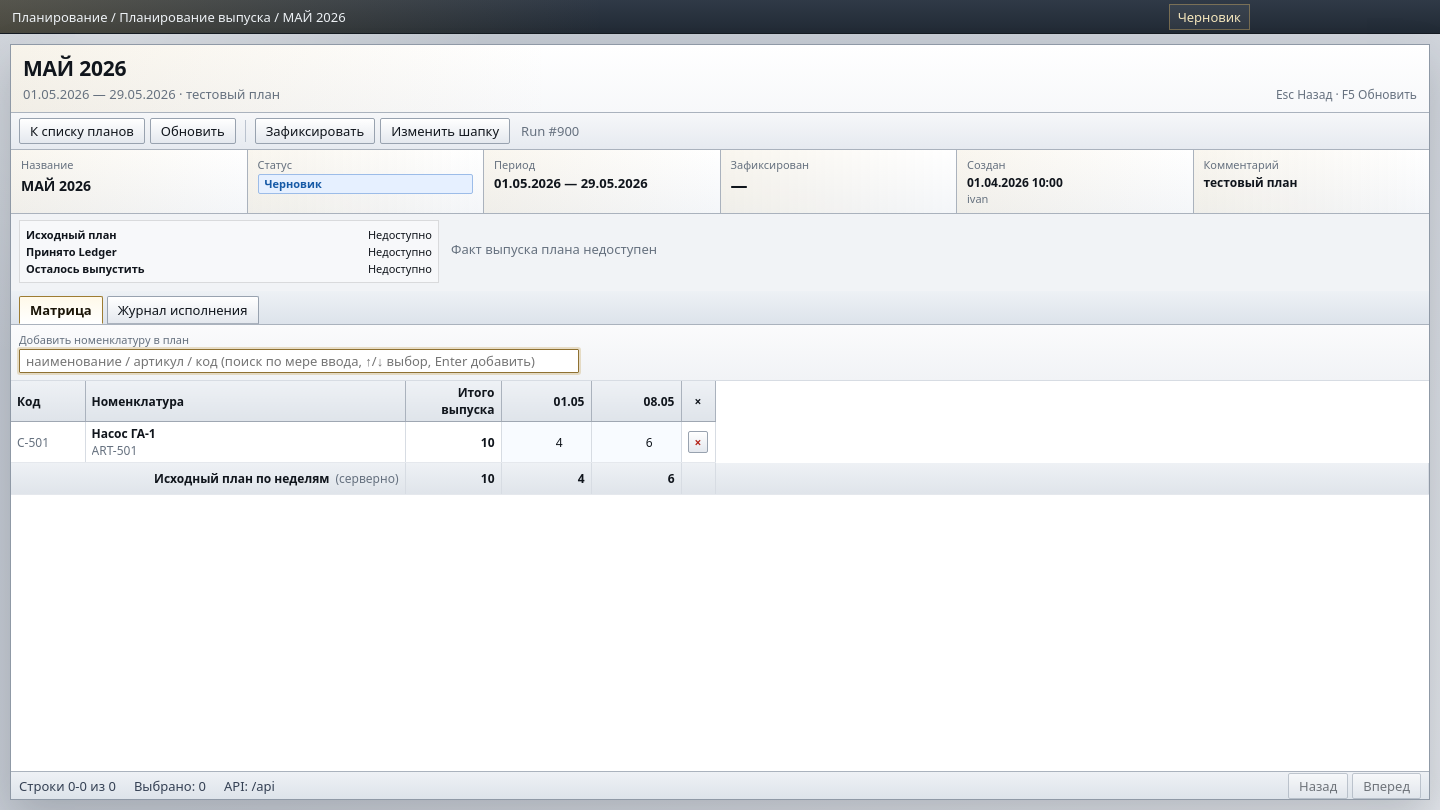
Test: PeriodPlanPage — detail view › switches to the journal tab and loads the execution journal
This screenshot has width=1440, height=810.
Expected: the text "Насос ГА-1" is shown, [92,425,156,442]
Click the button "Журнал исполнения". click: point(183, 310)
box: [107,296,258,324]
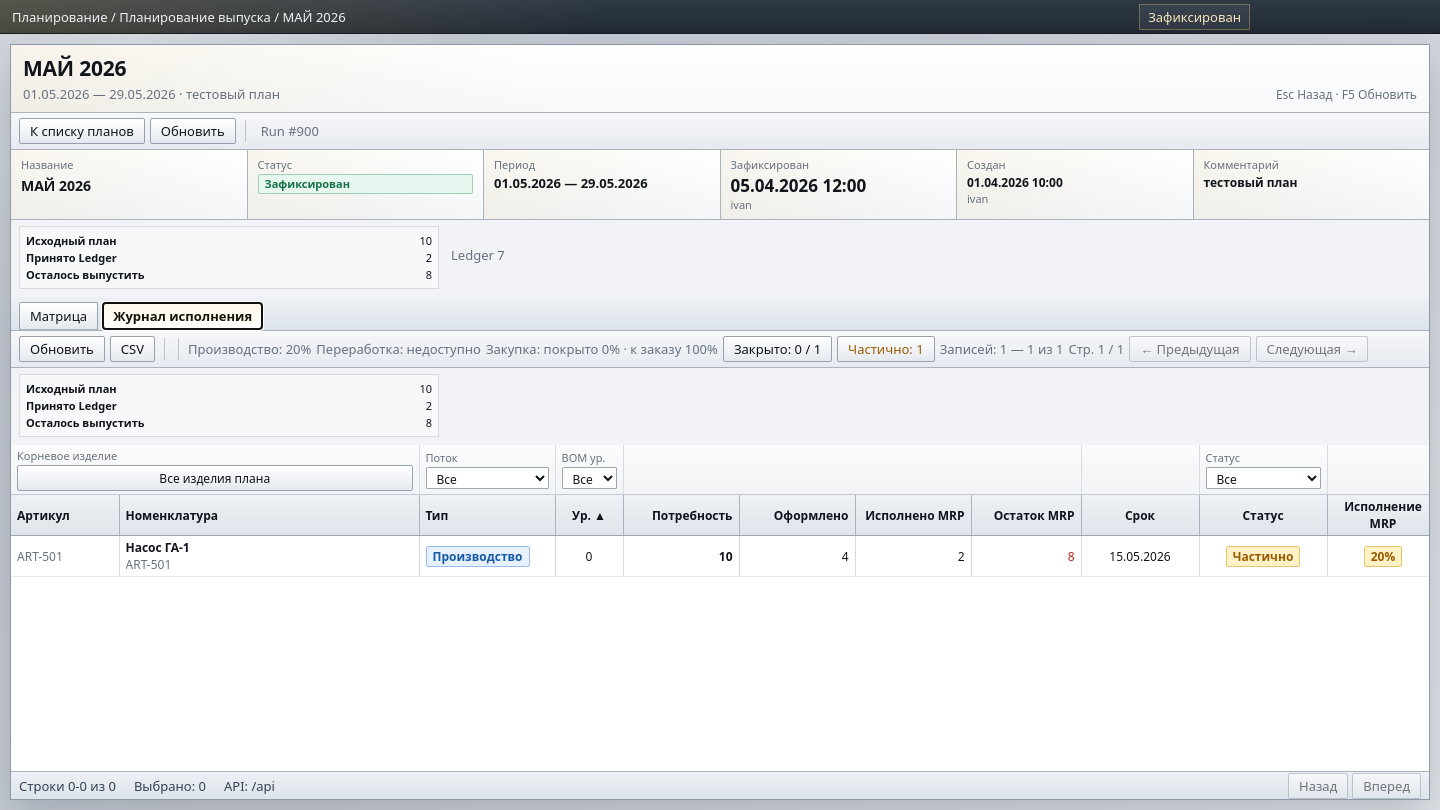
Now the button "Тип" is shown, box [426,506,548,524]
Now the element named "Факт выпуска плана" shows "Исходный план 10", box [19,374,439,437]
Now the element named "Факт выпуска плана" shows "Принято Ledger 2", box [19,374,439,437]
